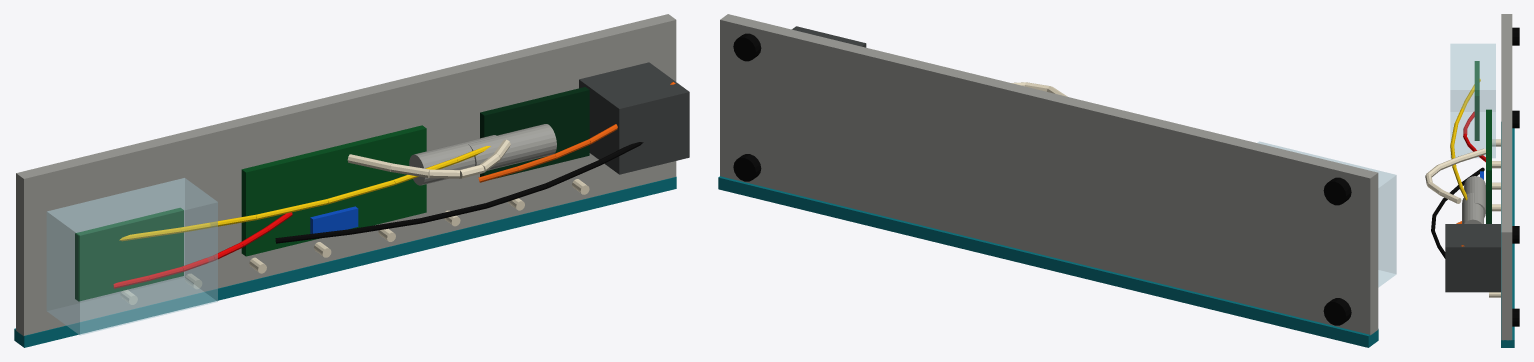
Rendered from 05_long_electronics_tray.fbx.
The picture shows the model from 3 angles, left to right: view 1: azimuth 30°, elevation 25°; view 2: azimuth 150°, elevation 25°; view 3: azimuth 270°, elevation 25°; orthographic projection. The views are drawn at different scales.
Parts seen in each view (by area): view 1: tray_long_metal_platform, tray_small_acrylic_cover, tray_center_pcb, tray_right_metal_block, tray_teal_side_edge, tray_left_pcb, tray_right_pcb, tray_silver_cylinder_B, tray_silver_cylinder_A, tray_blue_display; view 2: tray_long_metal_platform, tray_teal_side_edge, tray_small_acrylic_cover, tray_rubber_foot_-1_1800000000000002_0_22999999999999998, tray_rubber_foot_1_1800000000000002_0_22999999999999998, tray_rubber_foot_-1_1800000000000002_-0_22999999999999998, tray_rubber_foot_1_1800000000000002_-0_22999999999999998; view 3: tray_small_acrylic_cover, tray_long_metal_platform, tray_right_metal_block, tray_teal_side_edge, tray_silver_cylinder_B, tray_silver_cylinder_A, tray_center_pcb, tray_left_pcb, tray_right_pcb, tray_wire_3_00, tray_wire_3_05, tray_wire_3_01 (+9 smaller).
Part boxes in pixels (x1,y1,x2,y2): tray_long_metal_platform: (16, 14, 676, 336); tray_small_acrylic_cover: (46, 178, 217, 335); tray_center_pcb: (241, 125, 426, 256); tray_right_metal_block: (579, 62, 689, 174); tray_teal_side_edge: (14, 176, 676, 347); tray_left_pcb: (75, 207, 183, 301); tray_right_pcb: (480, 87, 589, 178); tray_silver_cylinder_B: (468, 124, 556, 170); tray_silver_cylinder_A: (409, 135, 497, 185); tray_blue_display: (310, 206, 358, 233); tray_long_metal_platform: (720, 14, 1378, 335); tray_teal_side_edge: (718, 176, 1378, 347); tray_small_acrylic_cover: (1257, 141, 1396, 287); tray_rubber_foot_-1_1800000000000002_0_22999999999999998: (1323, 177, 1351, 205); tray_rubber_foot_1_1800000000000002_0_22999999999999998: (733, 33, 761, 61); tray_rubber_foot_-1_1800000000000002_-0_22999999999999998: (1323, 298, 1351, 325); tray_rubber_foot_1_1800000000000002_-0_22999999999999998: (733, 154, 761, 181); tray_small_acrylic_cover: (1450, 43, 1495, 158); tray_long_metal_platform: (1501, 14, 1512, 340); tray_right_metal_block: (1445, 224, 1500, 292); tray_teal_side_edge: (1501, 122, 1514, 347); tray_silver_cylinder_B: (1462, 193, 1483, 223); tray_silver_cylinder_A: (1464, 176, 1485, 217); tray_center_pcb: (1486, 109, 1491, 190); tray_left_pcb: (1474, 61, 1479, 140); tray_right_pcb: (1486, 190, 1491, 223); tray_wire_3_00: (1458, 148, 1485, 162); tray_wire_3_05: (1439, 190, 1461, 203); tray_wire_3_01: (1437, 157, 1460, 170).
Bounding box in the file's own units: 2.6 × 0.6425 × 0.4759.
